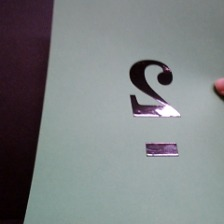green2: (124, 55, 193, 163)
